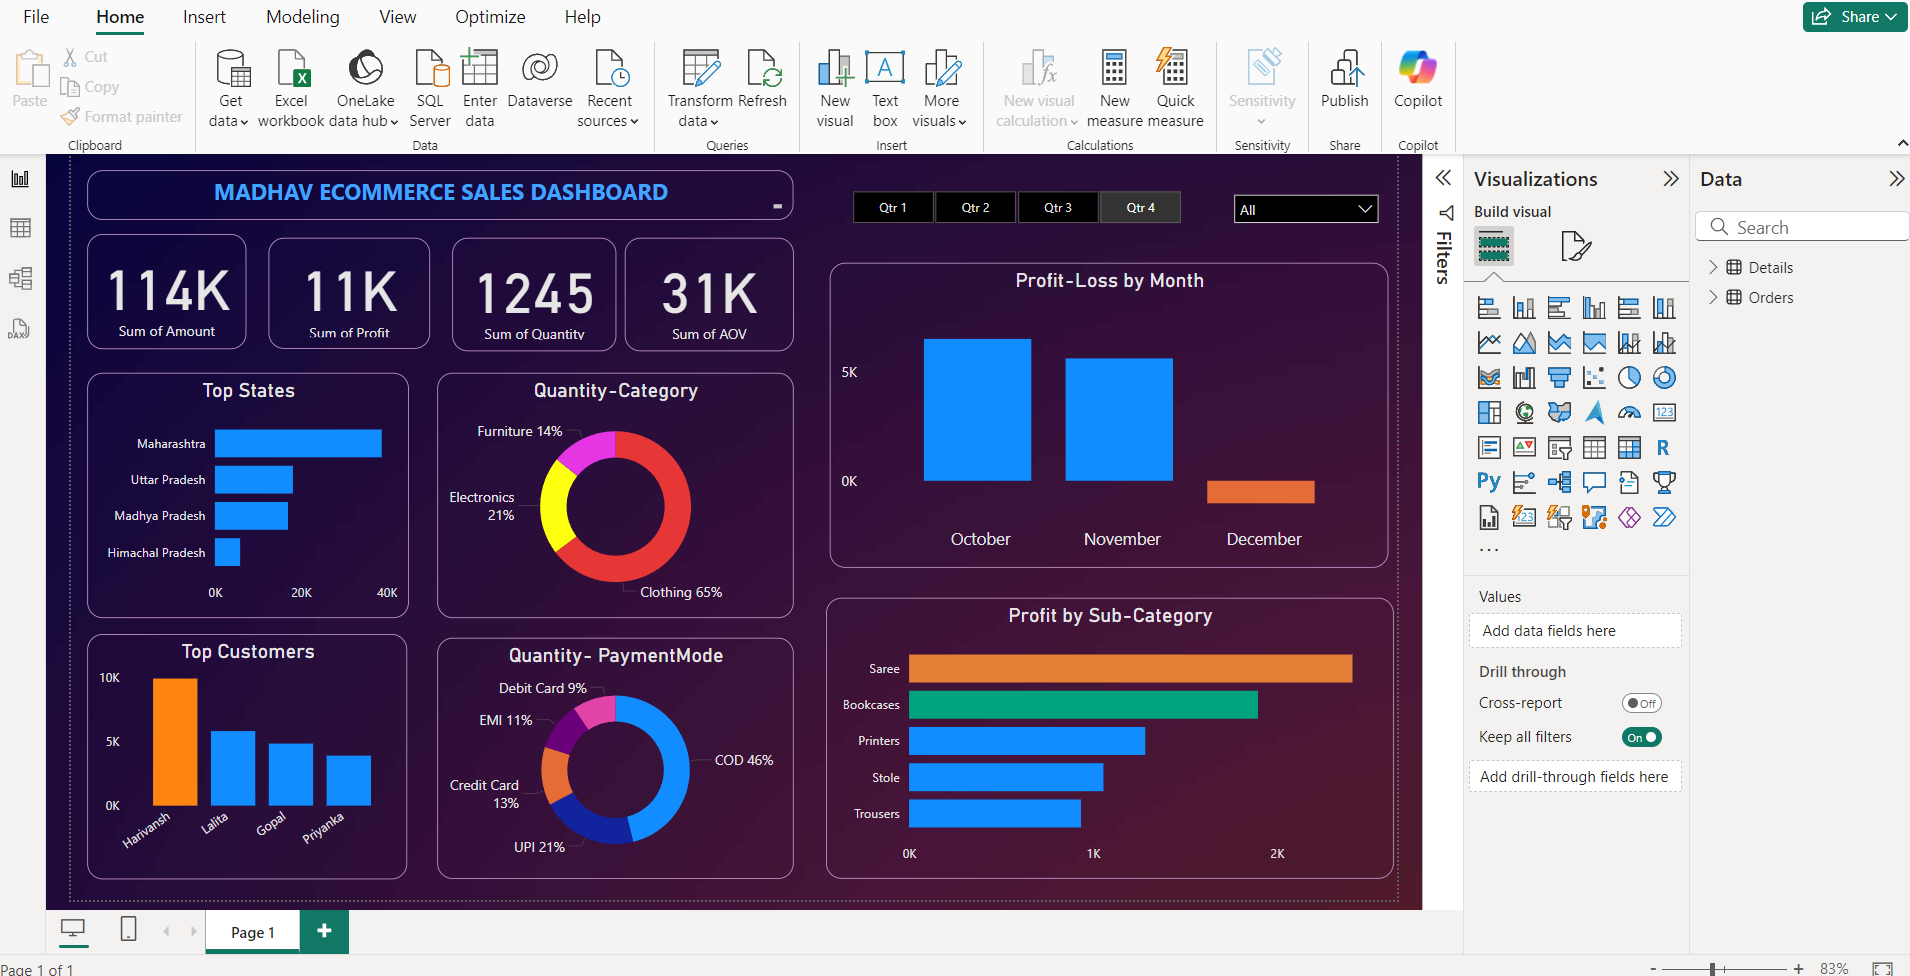

The dashboard page shown, as its layout file describes it:
{"tool":"powerbi","page":{"name":"Page 1","canvas":[1280,720],"ordinal":0},"visuals":[{"type":"textbox","title":"MADHAV ECOMMERCE SALES DASHBOARD","box":[15.7,15.7,681.6,48.3],"z":0},{"type":"columnChart","title":" Profit-Loss by Month","fields":{"Y":["Details.Profit"],"Category":["Orders.Order Date.Variation.Date Hierarchy.Month"]},"box":[732.3,105,539.3,294.4],"z":1000},{"type":"barChart","title":" Profit by Sub-Category","fields":{"Y":["Details.Profit"],"Category":["Details.Sub-Category"]},"box":[728.7,428.3,547.7,271.4],"z":2000},{"type":"donutChart","title":" Quantity-Category","fields":{"Y":["Details.Quantity"],"Category":["Details.Category"]},"box":[353.5,211.1,343.8,236.5],"z":3000},{"type":"donutChart","title":"Quantity- PaymentMode","fields":{"Y":["Details.Quantity"],"Category":["Details.PaymentMode"]},"box":[353.5,466.9,343.8,232.8],"z":4000},{"type":"card","fields":{"Values":["Details.Amount"]},"box":[15.7,77.2,153.2,111],"z":5000},{"type":"card","fields":{"Values":["Details.Quantity"]},"box":[368,80.8,158,109.8],"z":6000},{"type":"card","fields":{"Values":["Details.Profit"]},"box":[190.6,80.8,155.6,107.4],"z":7000},{"type":"card","fields":{"Values":["Details.AOV"]},"box":[534.5,80.8,162.9,109.8],"z":8000},{"type":"barChart","title":"Top States","fields":{"Y":["Details.Amount"],"Category":["Orders.State"]},"box":[15.7,211.1,310.1,236.5],"z":9000},{"type":"columnChart","title":"Top Customers","fields":{"Category":["Orders.CustomerName"],"Y":["Details.Amount"]},"box":[15.7,463.3,308.8,236.5],"z":10000},{"type":"slicer","fields":{"Values":["Orders.Order Date.Variation.Date Hierarchy.Quarter"]},"box":[728.7,29,366.8,44.6],"z":10001},{"type":"slicer","fields":{"Values":["Orders.State"]},"box":[1112.3,29,159.3,51.9],"z":10002}]}

Visuals, with their boxes on the page's 1280x720 design canvas (x1, y1, x2, y2). These are canvas units, not pixel positions in the 1910x976 screenshot, which may show the page scaled, cropped or inside an application window:
"MADHAV ECOMMERCE SALES DASHBOARD" textbox: locate(16, 16, 697, 64)
" Profit-Loss by Month" columnChart: locate(732, 105, 1272, 399)
" Profit by Sub-Category" barChart: locate(729, 428, 1276, 700)
" Quantity-Category" donutChart: locate(354, 211, 697, 448)
"Quantity- PaymentMode" donutChart: locate(354, 467, 697, 700)
card - Details.Amount: locate(16, 77, 169, 188)
card - Details.Quantity: locate(368, 81, 526, 191)
card - Details.Profit: locate(191, 81, 346, 188)
card - Details.AOV: locate(534, 81, 697, 191)
"Top States" barChart: locate(16, 211, 326, 448)
"Top Customers" columnChart: locate(16, 463, 324, 700)
slicer - Orders.Order Date.Variation.Date Hierarchy.Quarter: locate(729, 29, 1096, 74)
slicer - Orders.State: locate(1112, 29, 1272, 81)
